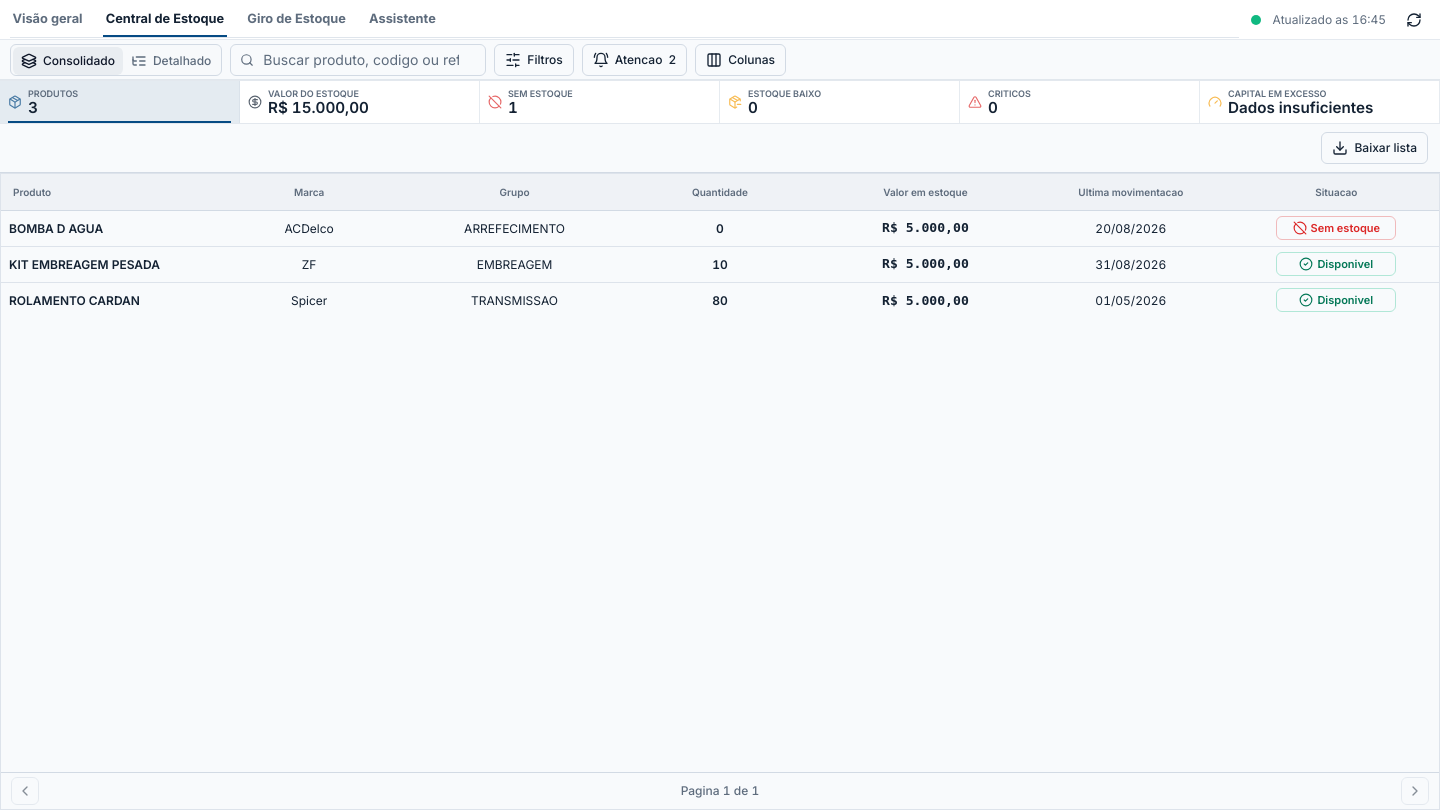
Test: EstoquePage › mostra carregamento no Giro sem usar zeros nem horario de outra fonte
This screenshot has width=1440, height=810.
Click the tab "Giro de Estoque" at (297, 19), box [245,1,348,37]
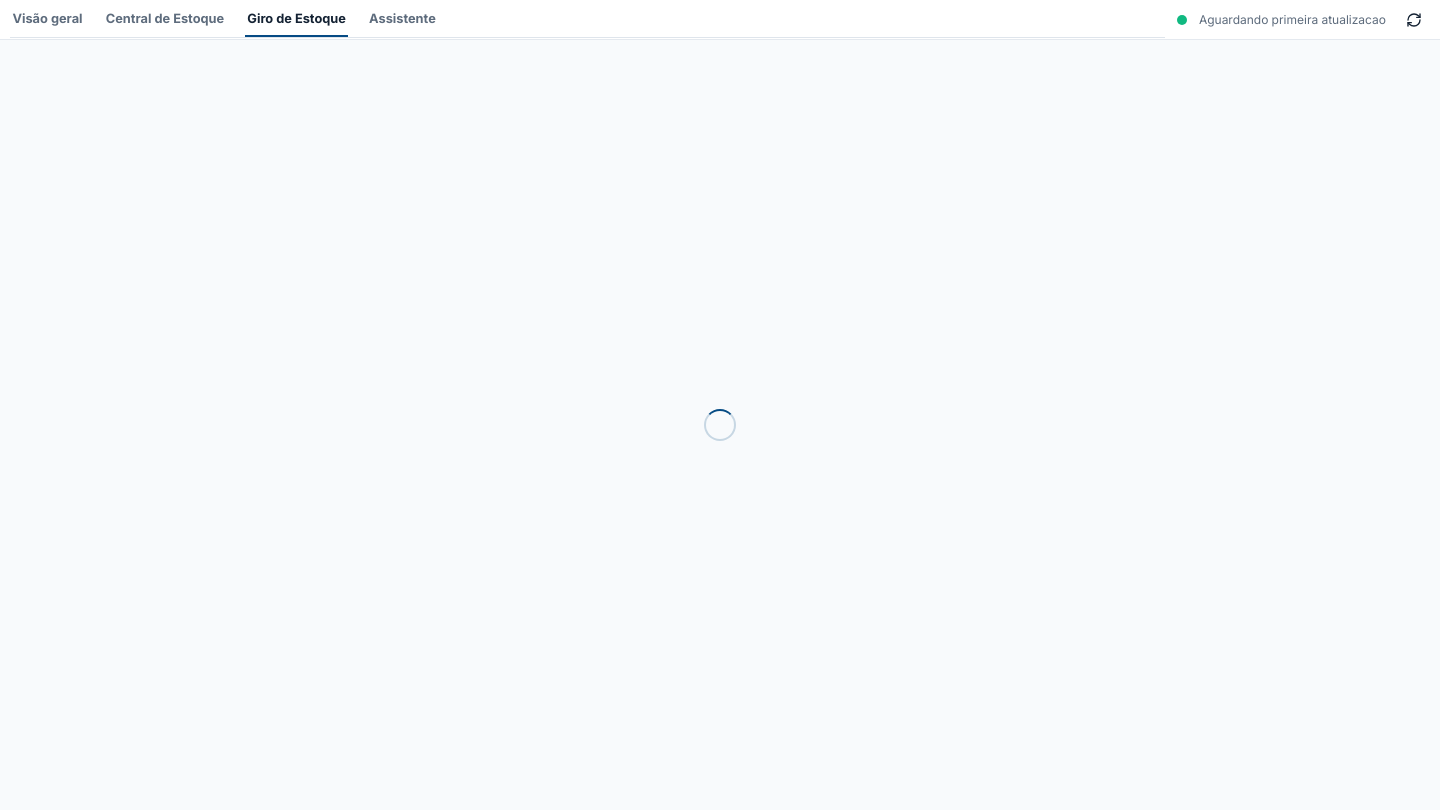
Expected: the message named "Carregando movimentacoes do estoque" is shown
Expected: the text "Aguardando primeira atualizacao" is shown, [1199,12,1386,28]
